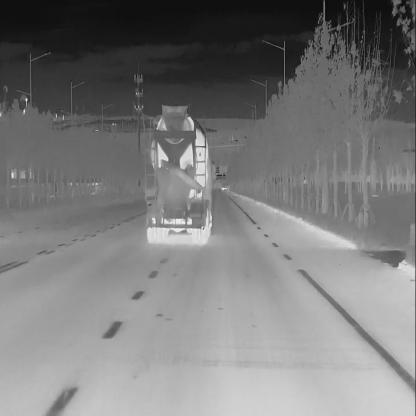truck: (140, 98, 219, 251)
